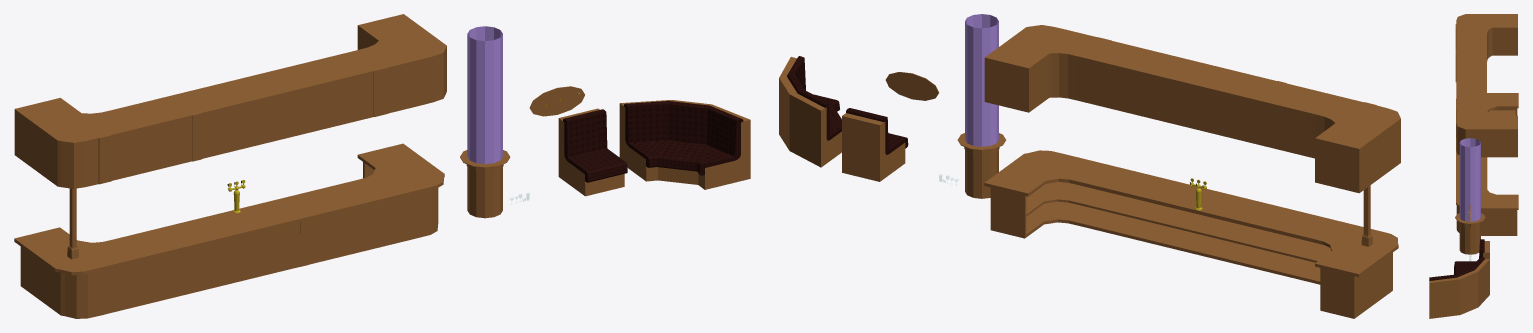
File: Bar Pack.fbx
3 views of the same model, side by side, from view 1: azimuth 30°, elevation 25°; view 2: azimuth 150°, elevation 25°; view 3: azimuth 270°, elevation 25° (orthographic). The views are drawn at different scales.
Parts seen in each view (by area): view 1: Bar Table Top, Bar Large Table, Cube.003, Pillar Roof Connector, Cube.001, Bar Pillar, Shotgun Holder, Bar Pillar.001; view 2: Bar Table Top, Bar Large Table, Cube.003, Pillar Roof Connector, Cube.001, Bar Pillar, Shotgun Holder, Bar Pillar.001; view 3: Bar Table Top, Bar Large Table, Cube.003, Pillar Roof Connector, Bar Pillar, Cube.001.
Boxes of the visible parts, x1=… form: Bar Table Top: x1=14, y1=14, x2=446, y2=188; Bar Large Table: x1=14, y1=143, x2=444, y2=318; Cube.003: x1=619, y1=100, x2=750, y2=189; Pillar Roof Connector: x1=467, y1=26, x2=502, y2=164; Cube.001: x1=558, y1=108, x2=627, y2=196; Bar Pillar: x1=460, y1=150, x2=510, y2=218; Shotgun Holder: x1=529, y1=86, x2=584, y2=116; Bar Pillar.001: x1=67, y1=188, x2=78, y2=259; Bar Table Top: x1=984, y1=25, x2=1400, y2=193; Bar Large Table: x1=984, y1=150, x2=1398, y2=318; Cube.003: x1=779, y1=56, x2=841, y2=167; Pillar Roof Connector: x1=965, y1=14, x2=998, y2=146; Cube.001: x1=842, y1=108, x2=908, y2=181; Bar Pillar: x1=957, y1=133, x2=1005, y2=198; Shotgun Holder: x1=885, y1=72, x2=939, y2=100; Bar Pillar.001: x1=1361, y1=185, x2=1372, y2=246; Bar Table Top: x1=1455, y1=14, x2=1517, y2=157; Bar Large Table: x1=1456, y1=93, x2=1518, y2=235; Cube.003: x1=1429, y1=257, x2=1489, y2=318; Pillar Roof Connector: x1=1459, y1=138, x2=1480, y2=221; Bar Pillar: x1=1455, y1=213, x2=1485, y2=254; Cube.001: x1=1454, y1=239, x2=1489, y2=274.
Bounding box in the file's own units: 16.3 × 4.19 × 3.12.
